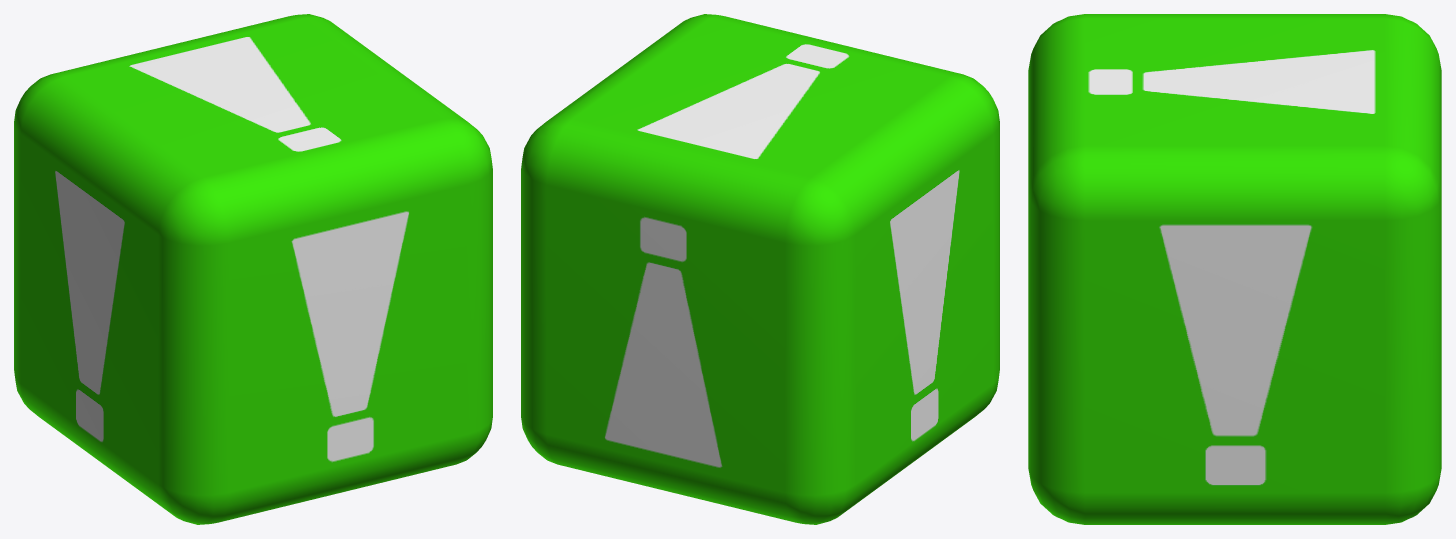
The model's file is Goal Die Model.fbx.
The picture shows the model from 3 angles, left to right: view 1: azimuth 30°, elevation 25°; view 2: azimuth 150°, elevation 25°; view 3: azimuth 270°, elevation 25°; orthographic projection. The views are drawn at different scales.
Parts seen in each view (by area): view 1: pCube1; view 2: pCube1; view 3: pCube1.
Boxes of the visible parts, <box> form: pCube1: <box>14,14,492,524</box>; pCube1: <box>521,14,999,524</box>; pCube1: <box>1028,14,1441,524</box>.
Size of the model in its own units: 297 by 297 by 297.
1 material, 1 textured.
